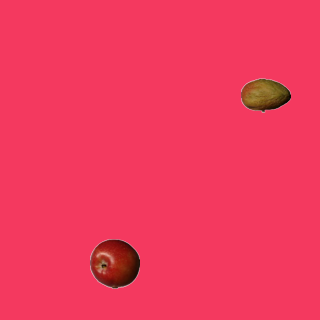Apple Braeburn: (89, 238, 139, 288)
Papaya: (240, 70, 290, 120)
